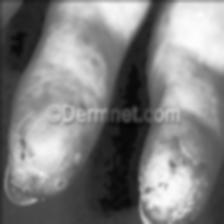Non-Cancerous Skin Condition: (6, 73, 98, 200), (138, 125, 223, 224)
